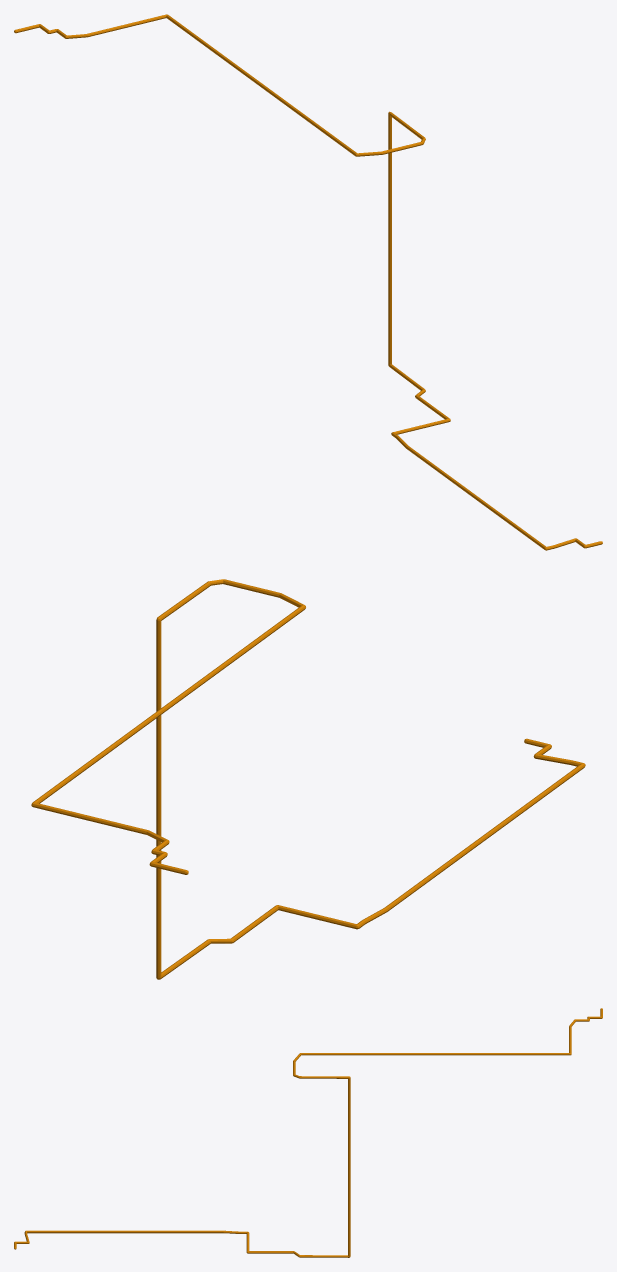
The picture shows the model from 3 angles, top to bottom: view 1: azimuth 30°, elevation 25°; view 2: azimuth 150°, elevation 25°; view 3: azimuth 270°, elevation 25°; orthographic projection. The views are drawn at different scales.
Size of the model in its own units: 1247 by 1520 by 4475.
